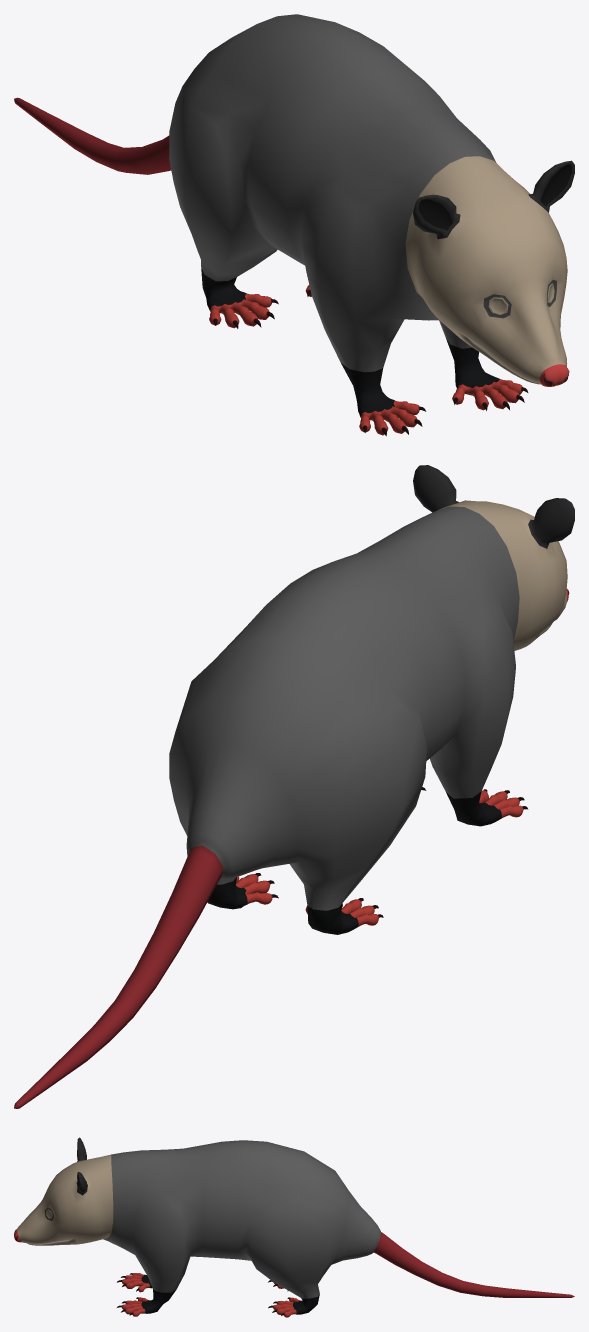
File: opossum_opossum.obj
The picture shows the model from 3 angles, top to bottom: view 1: azimuth 30°, elevation 25°; view 2: azimuth 150°, elevation 25°; view 3: azimuth 270°, elevation 25°; orthographic projection. The views are drawn at different scales.
Visible parts, largest first — view 1: opossum; view 2: opossum; view 3: opossum.
Part boxes in pixels (bbox=[...]): opossum: bbox=[14, 14, 574, 436]; opossum: bbox=[14, 465, 574, 1108]; opossum: bbox=[14, 1137, 574, 1317].
Size of the model in its own units: 0.3424 by 0.4457 by 1.47.
